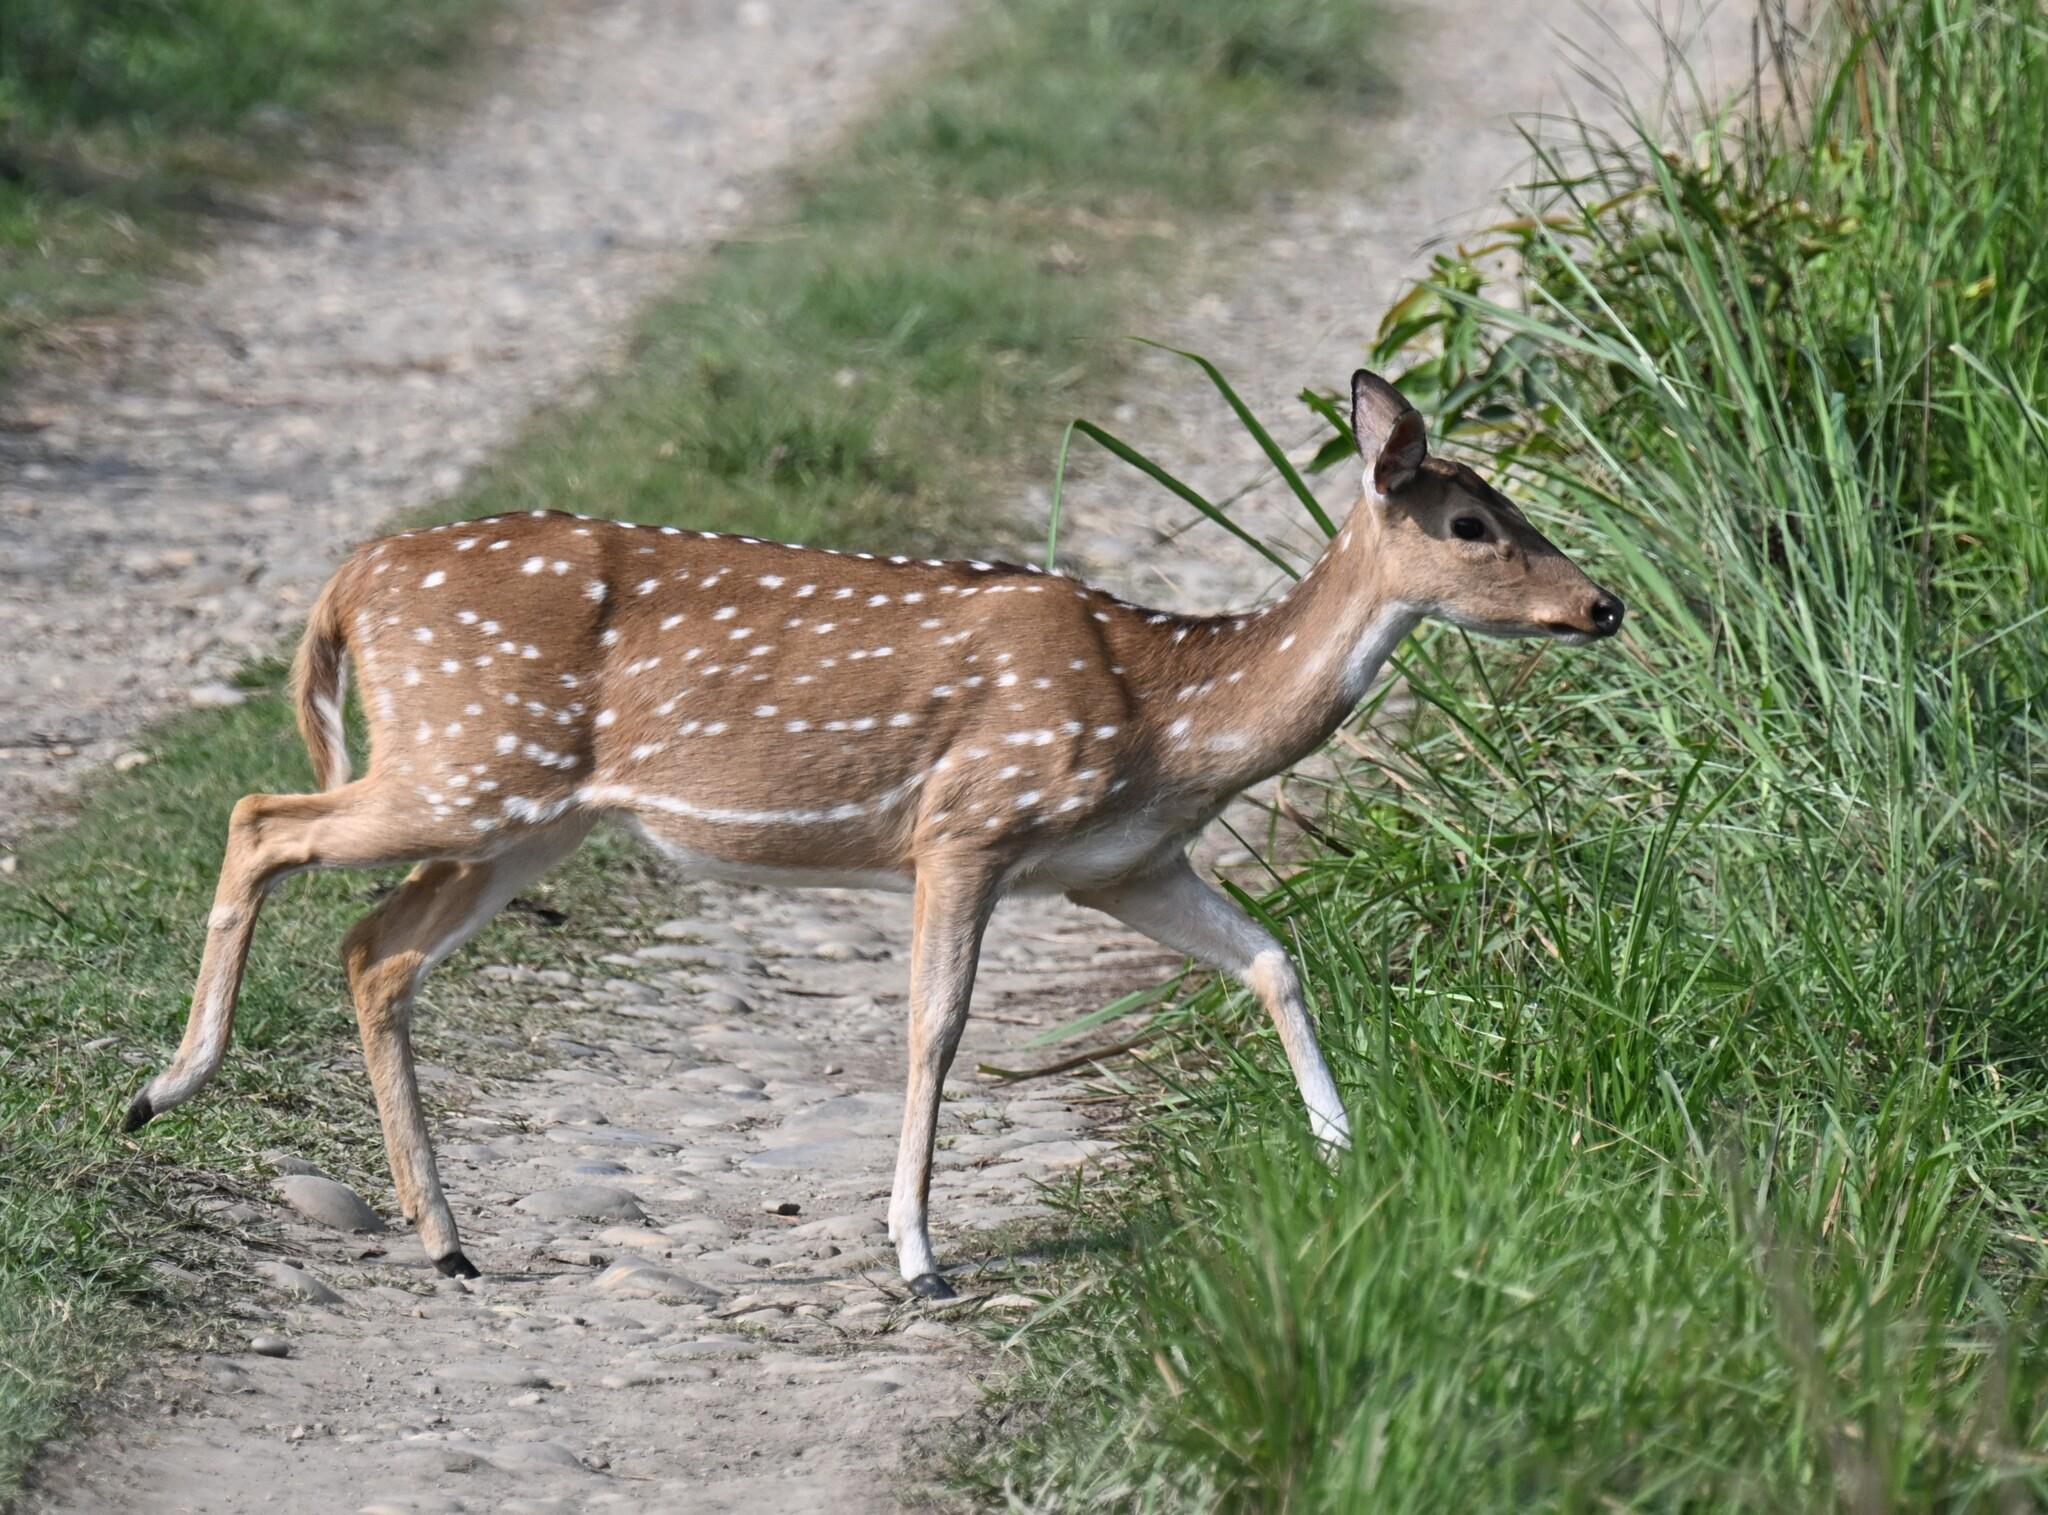Deer: (130, 371, 1626, 1295)
